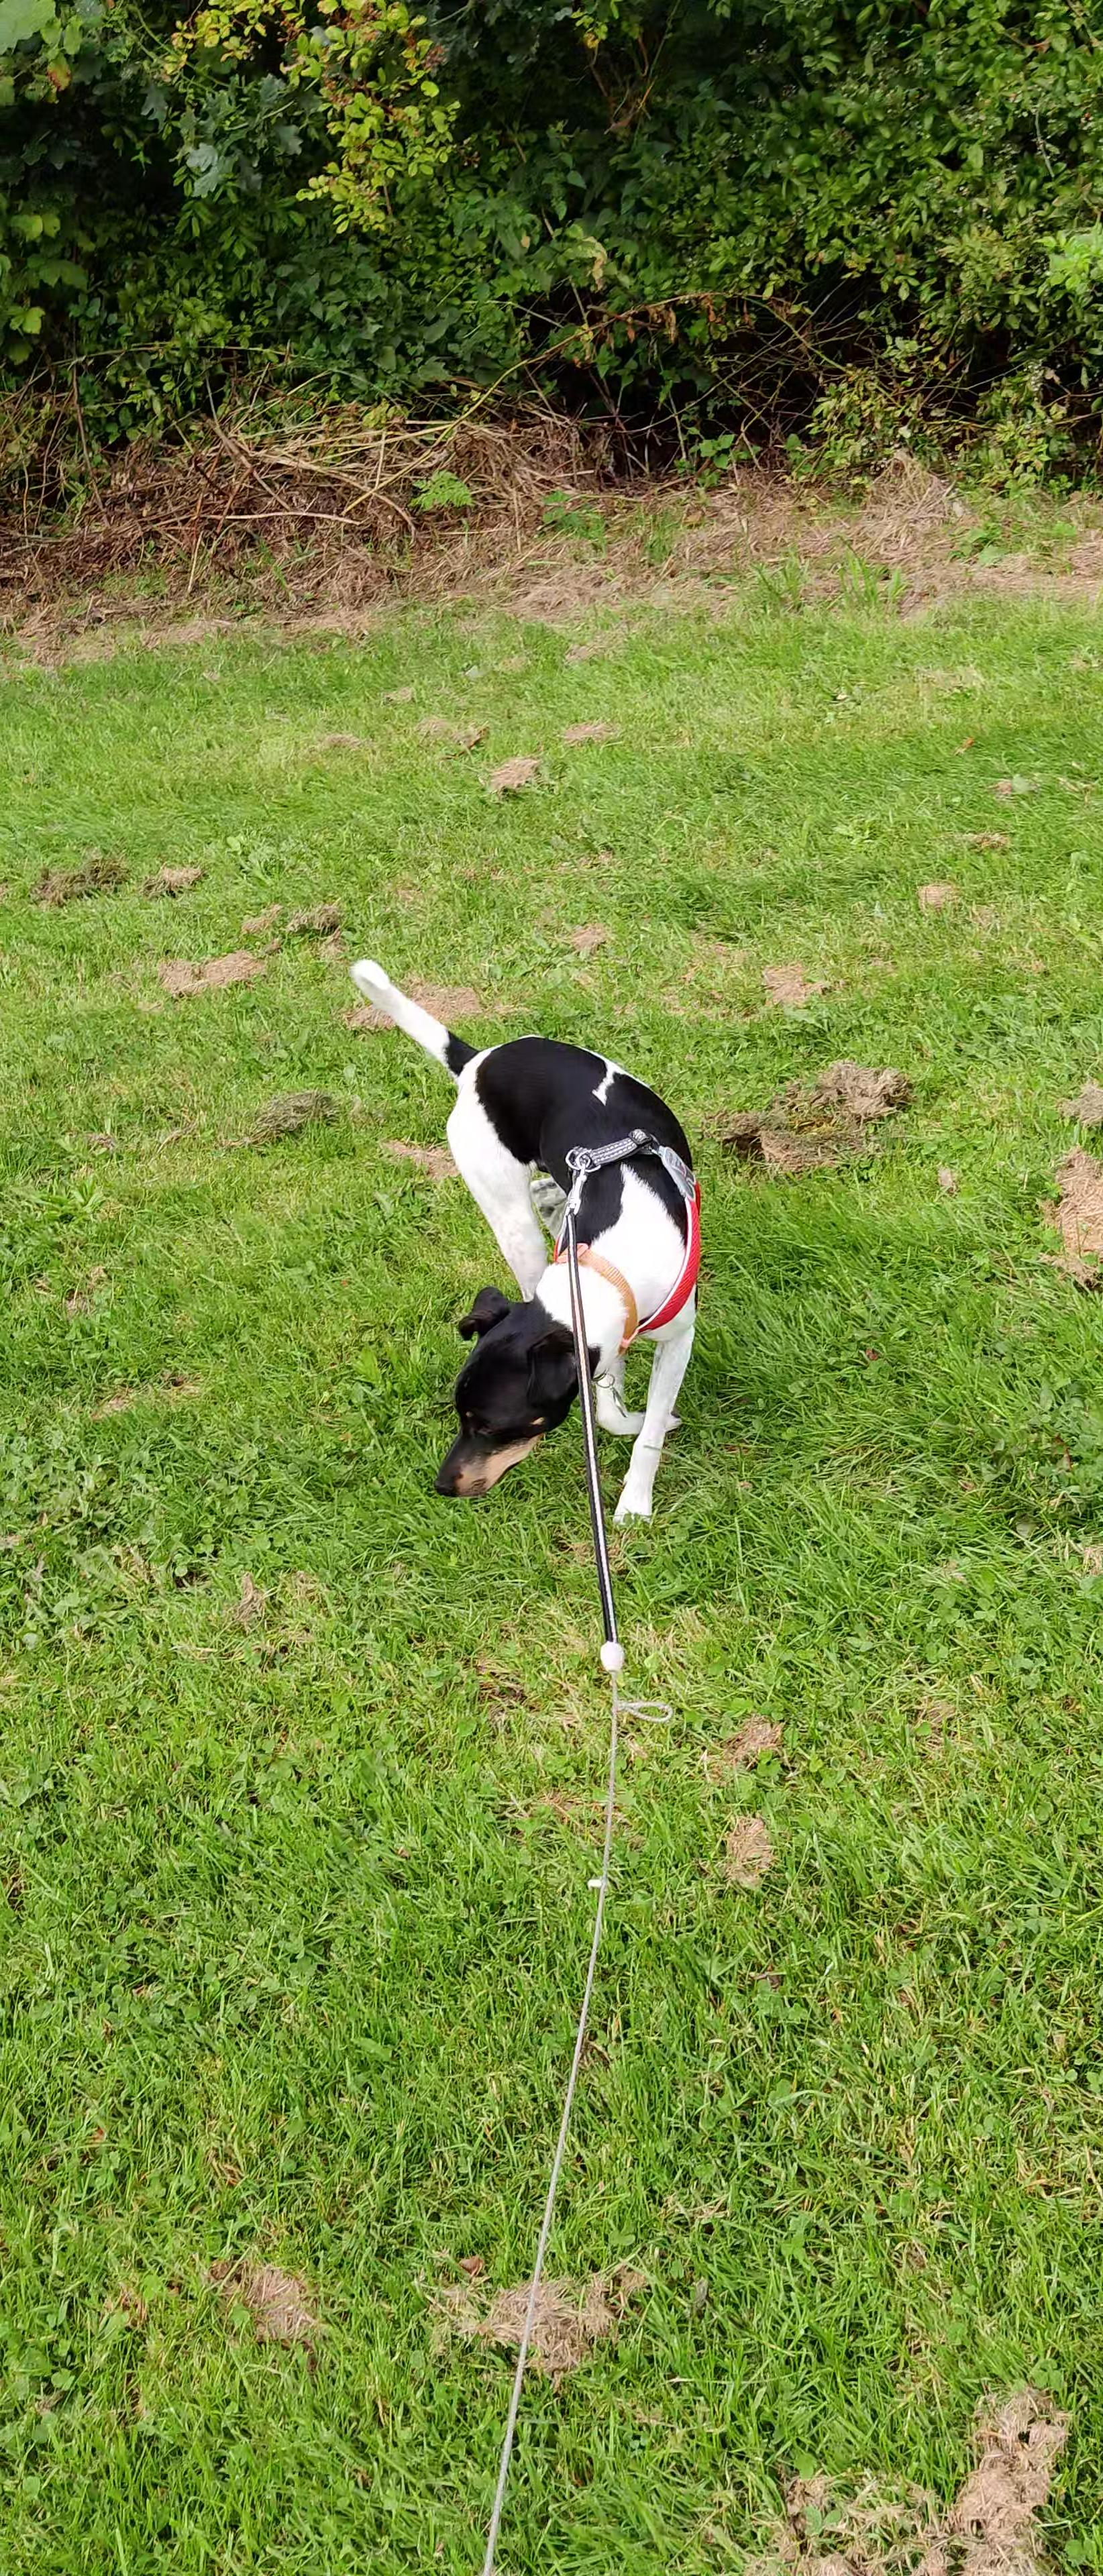Dog: (329, 936, 723, 1536)
